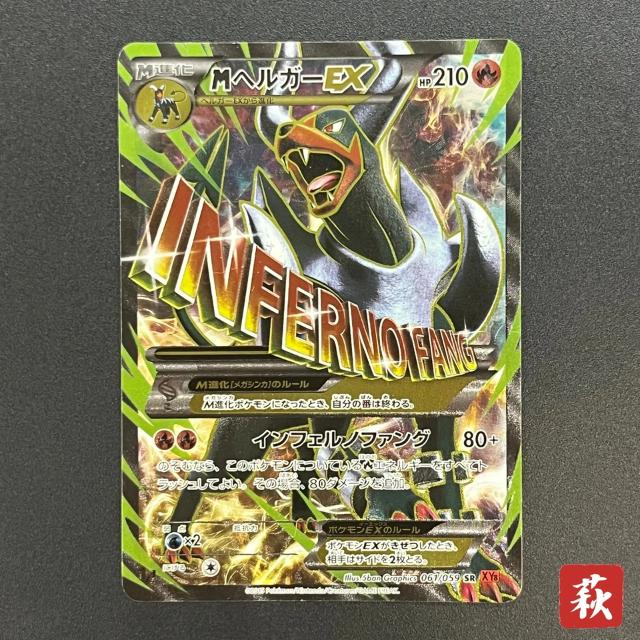Card: (110, 32, 528, 608)
Name: (203, 60, 378, 96)
